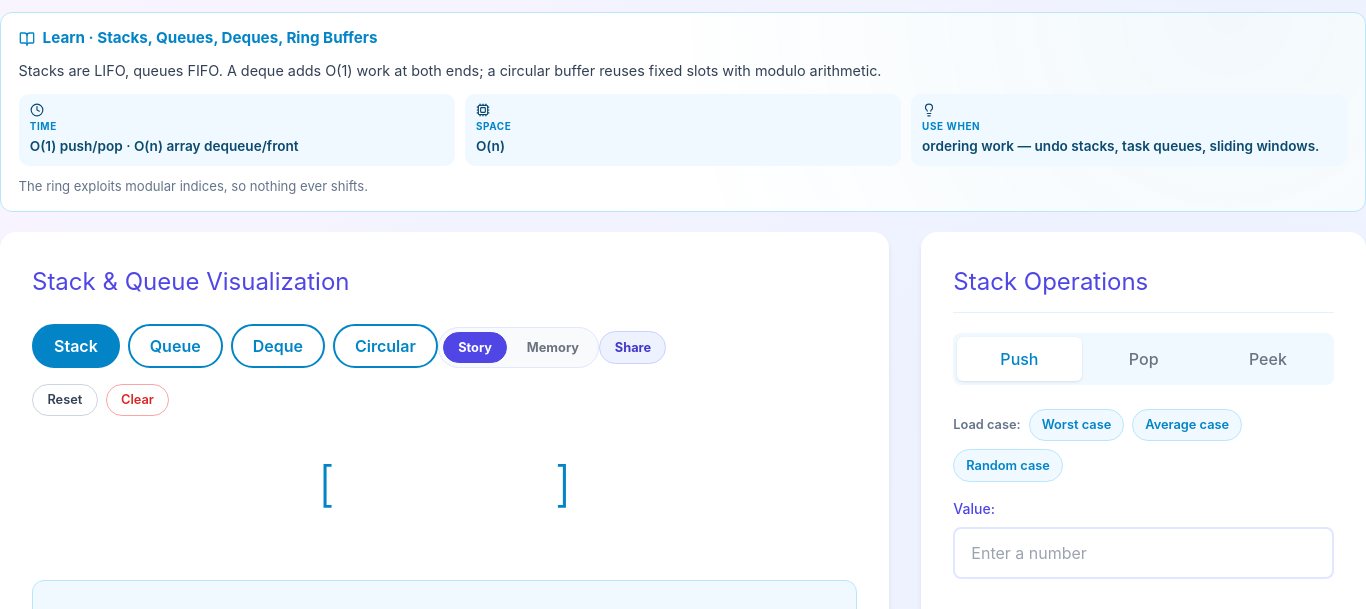
stack operations › popping removes the top and shows the stackPush pseudocode pane
Step 1. Click the button "Pop" → click(1144, 359), box [1082, 337, 1206, 381]
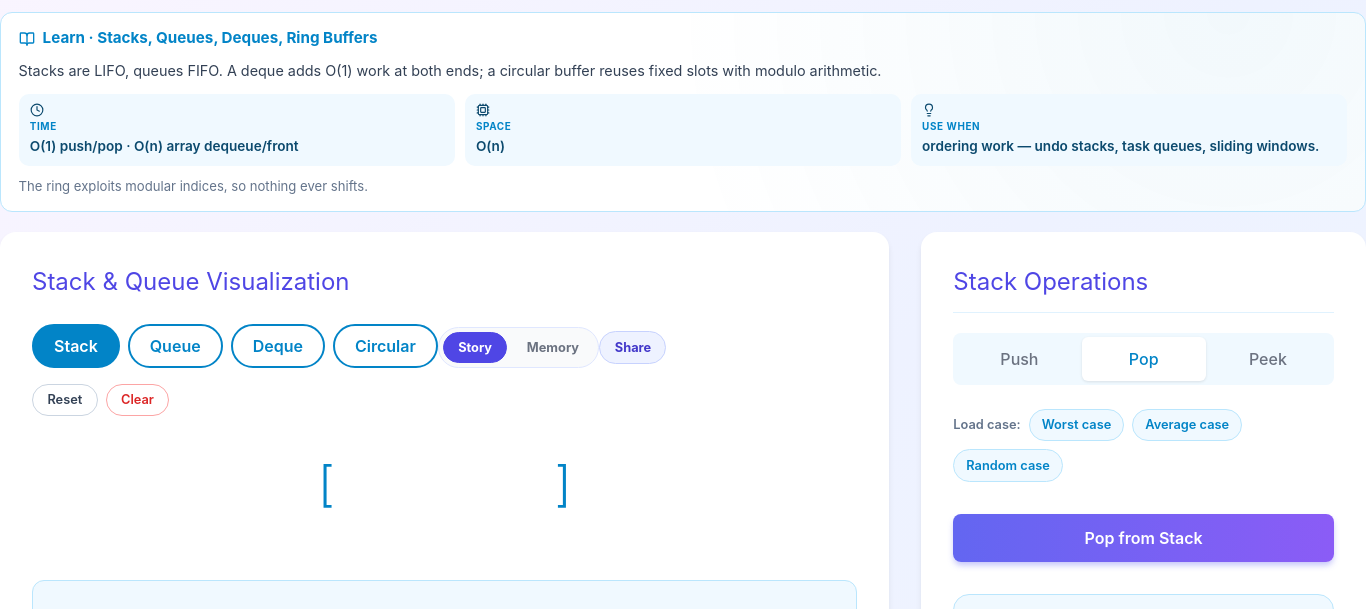
Step 2. Click the button "Pop from Stack" → click(1144, 538), box [953, 514, 1334, 562]
Wait 30000 ms
(page scrolled)
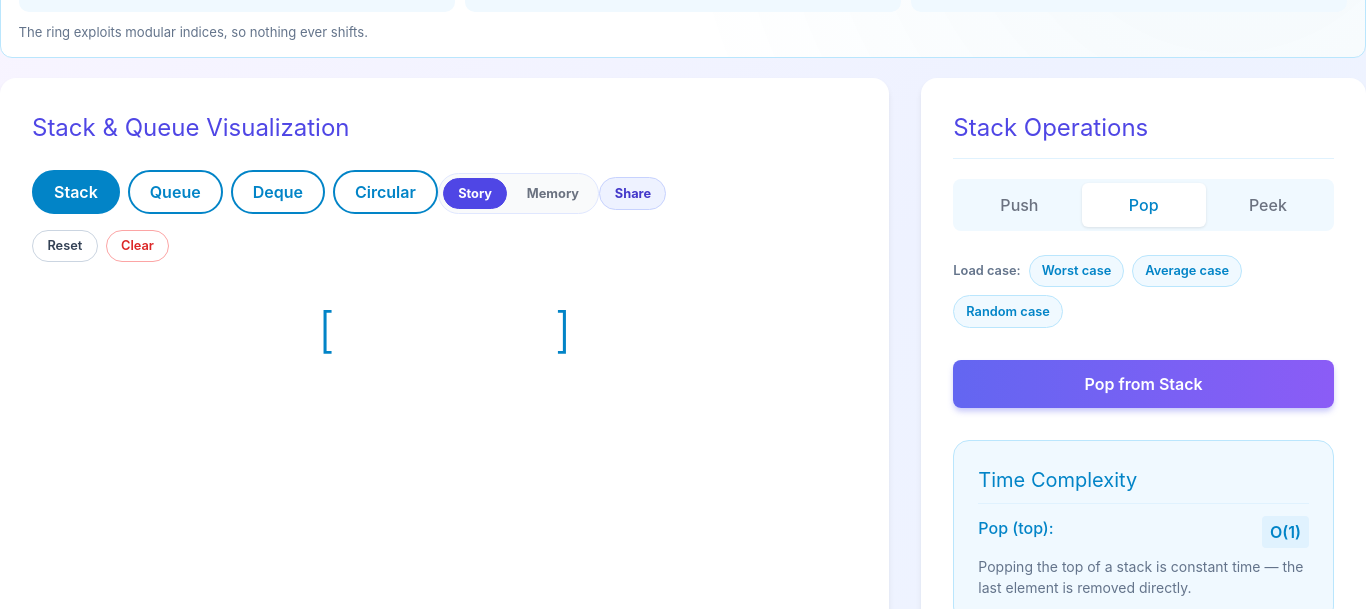
Step 3. Click the button "Push" → click(1019, 205), box [957, 183, 1082, 227]
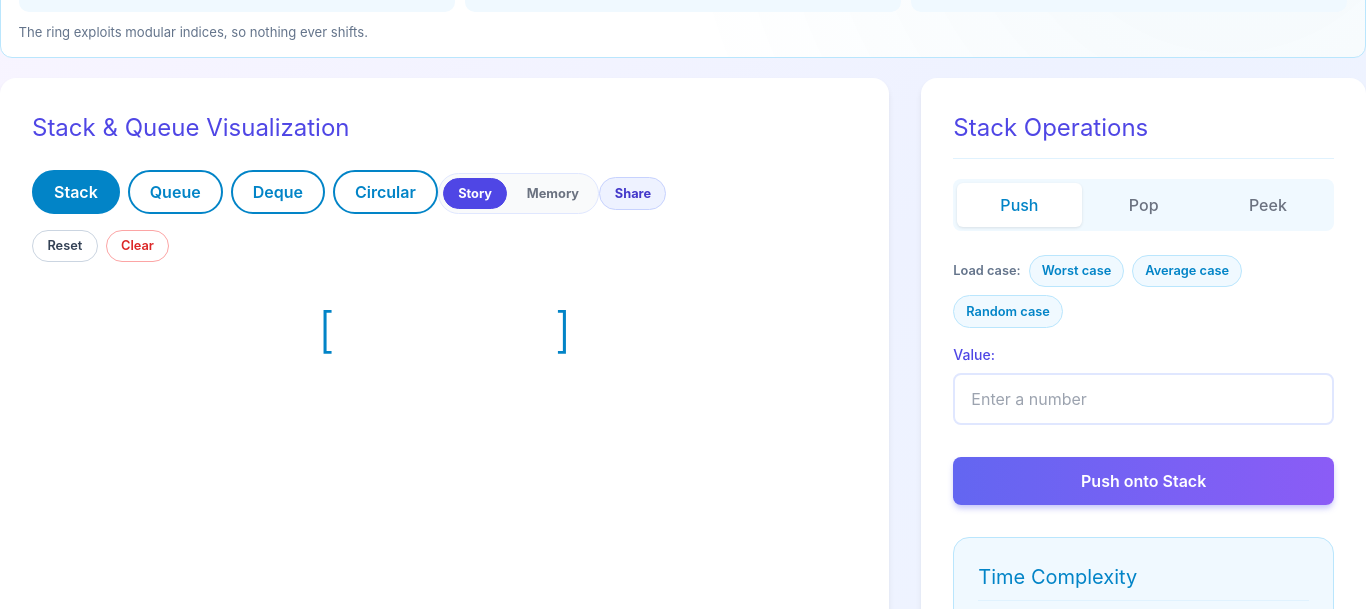
Step 4. Type "99" into the number field with placeholder "Enter a number" → (1144, 399), box [953, 373, 1334, 425]
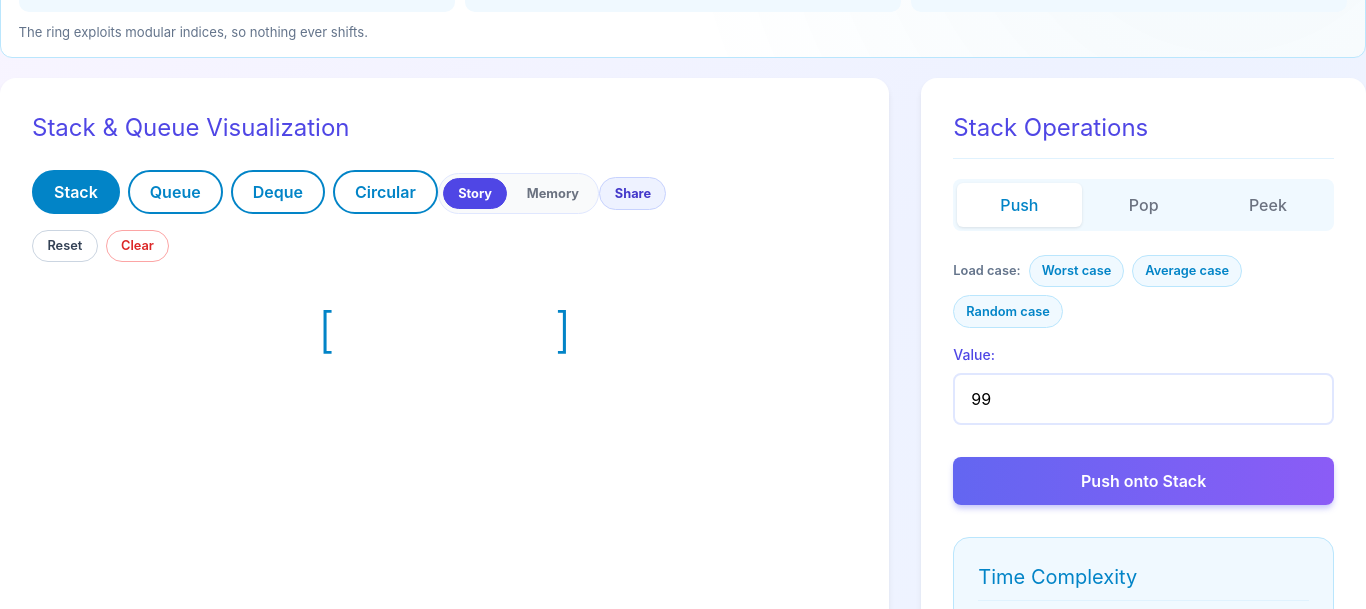
Step 5. Click the button "Push onto Stack" → click(1144, 481), box [953, 457, 1334, 505]
(page scrolled)
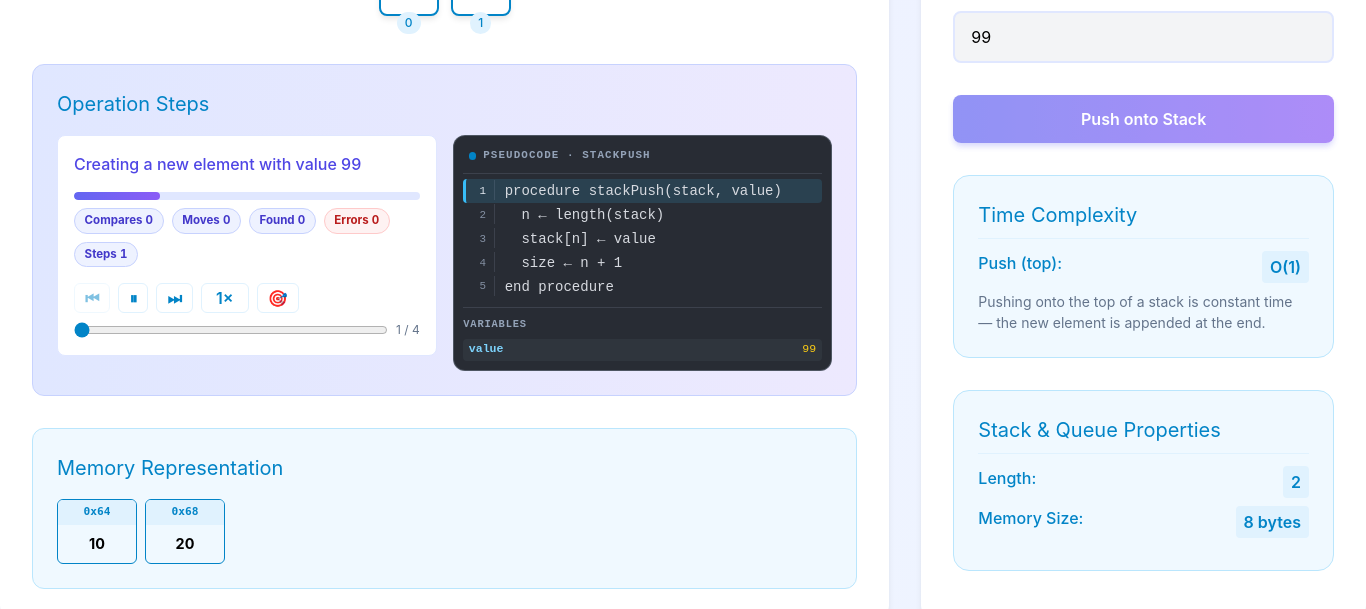
Expected: the element with class "code-pane" is shown, [453, 135, 832, 371]
Expected: the number of elements with class "code-line" is 5, [463, 179, 822, 203]; [473, 204, 664, 224]; [473, 228, 656, 248]; [473, 252, 622, 272]; [473, 276, 614, 296]
